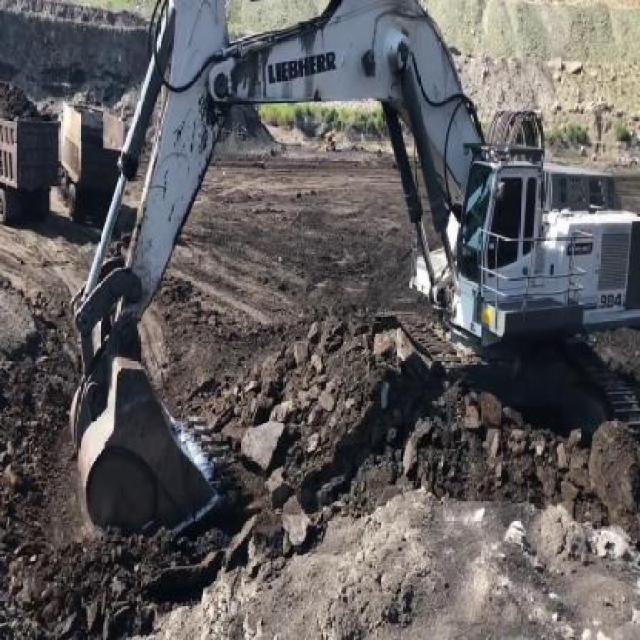dump_truck: (58, 93, 127, 225), (0, 100, 62, 232)
excavator: (67, 0, 639, 543)
